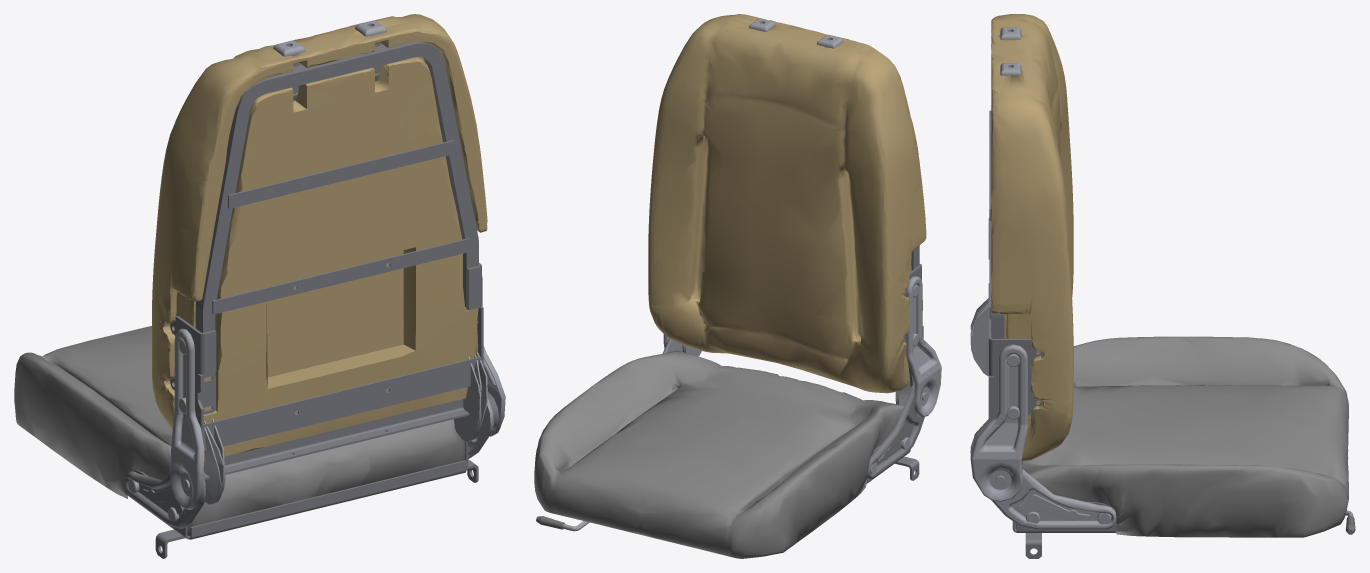
3 renders of one model, left to right at view 1: azimuth 30°, elevation 25°; view 2: azimuth 150°, elevation 25°; view 3: azimuth 270°, elevation 25°, orthographic. The views are drawn at different scales.
Parts seen in each view (by area): view 1: Cut-Extrude4, Cut-Extrude1.002, 693.000.222 _____ 2_20_20.STEP, 693.000.229 ________.STEP, 693.000.226 ______.STEP, Fillet7, __-000.000.000.211-02____ _______.STEP, 693.000.224 ________.STEP, 693.000.228________.STEP, Mirror1.001, 693.000.221 _________ _____.STEP, <ÑÒ-000.000.000.001.2 ÌÍËåâûé>-<Fillet7> (+4 smaller); view 2: Cut-Extrude4, Cut-Extrude1.002, Fillet7, Mirror1.001; view 3: Cut-Extrude1.002, Cut-Extrude4, <ÑÒ-000.000.000.001.2 ÌÍËåâûé>-<Fillet7>, <ÑÒ-000.000.000.001.1 ÌÍËåâûé>-<Mirror1>, 693.000.221-01 _________ ______.STEP, Base-Flange1.002, __-000.000.000.211-02____ _______.STEP.
Part boxes in pixels (bbox=[...]): Cut-Extrude4: bbox=[152, 14, 487, 461]; Cut-Extrude1.002: bbox=[14, 326, 465, 536]; 693.000.222 _____ 2_20_20.STEP: bbox=[195, 41, 478, 332]; 693.000.229 ________.STEP: bbox=[203, 356, 481, 450]; 693.000.226 ______.STEP: bbox=[203, 399, 469, 479]; Fillet7: bbox=[170, 328, 204, 509]; __-000.000.000.211-02____ _______.STEP: bbox=[127, 441, 467, 539]; 693.000.224 ________.STEP: bbox=[212, 238, 470, 314]; 693.000.228________.STEP: bbox=[228, 140, 454, 208]; Mirror1.001: bbox=[125, 471, 206, 528]; 693.000.221 _________ _____.STEP: bbox=[170, 315, 216, 476]; <ÑÒ-000.000.000.001.2 ÌÍËåâûé>-<Fillet7>: bbox=[482, 275, 505, 436]; Cut-Extrude4: bbox=[648, 14, 926, 393]; Cut-Extrude1.002: bbox=[534, 350, 903, 558]; Fillet7: bbox=[906, 276, 941, 417]; Mirror1.001: bbox=[867, 382, 924, 479]; Cut-Extrude1.002: bbox=[1015, 336, 1348, 537]; Cut-Extrude4: bbox=[991, 14, 1073, 461]; <ÑÒ-000.000.000.001.2 ÌÍËåâûé>-<Fillet7>: bbox=[970, 344, 1027, 501]; <ÑÒ-000.000.000.001.1 ÌÍËåâûé>-<Mirror1>: bbox=[991, 469, 1116, 529]; 693.000.221-01 _________ ______.STEP: bbox=[988, 333, 1043, 422]; Base-Flange1.002: bbox=[971, 307, 991, 376]; __-000.000.000.211-02____ _______.STEP: bbox=[1012, 502, 1116, 532].
Bounding box in the file's own units: 3.75 × 5.63 × 4.45.
